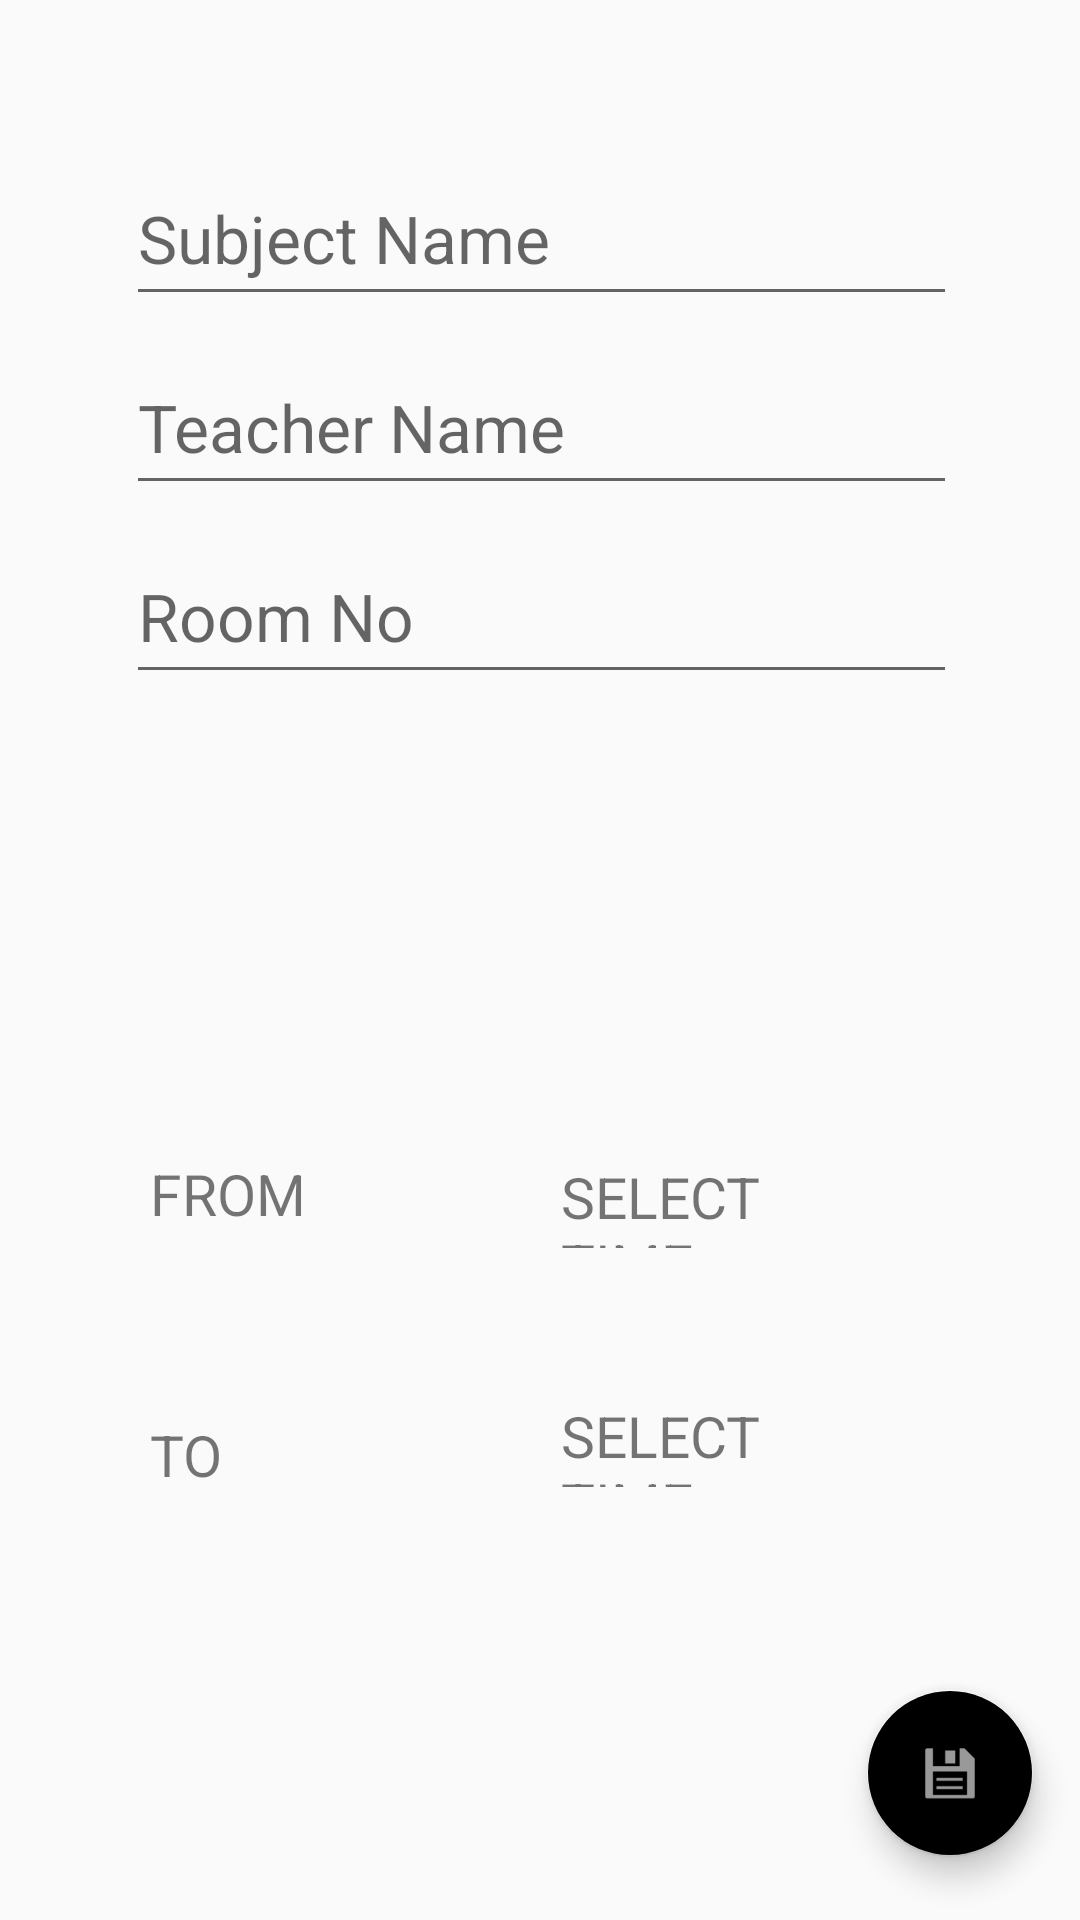

Named icons in this screenshot (1080px×1920px) and their centers, (x,y):
save: (951,1774)
